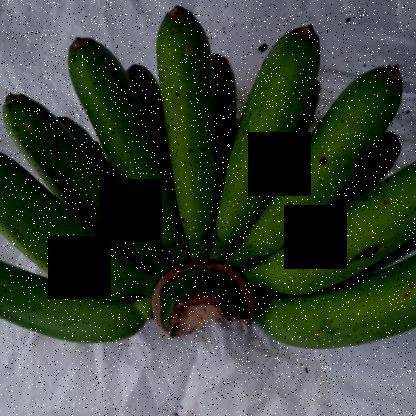unripe: (249, 57, 398, 271), (209, 1, 328, 221), (1, 139, 138, 318), (144, 1, 230, 278), (265, 243, 415, 359), (0, 260, 146, 353)
